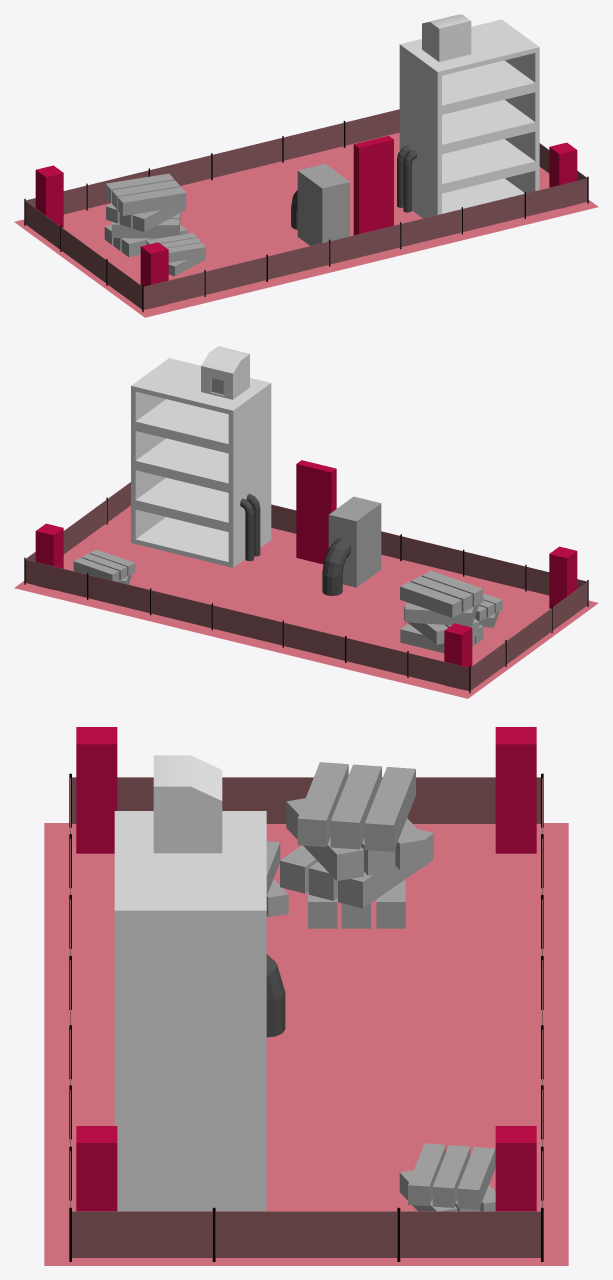
File: 510_pink.fbx
3 renders of one model, top to bottom at view 1: azimuth 30°, elevation 25°; view 2: azimuth 150°, elevation 25°; view 3: azimuth 270°, elevation 25°, orthographic. The views are drawn at different scales.
Visible parts, largest first — view 1: pCube229, ten_ght1, pCube228 (×4), pCube227 (×3), pCube233, pCube234, pCube241, pCube260, pCube261, pCube265, pCube256, pCube262 (+16 smaller); view 2: ten_ght1, pCube229, pCube234, pCube233, pCube228 (×3), pCube241, pCube227 (×2), pCube260, pCube262, pCube258, pCube257, pCube259 (+20 smaller); view 3: ten_ght1, pCube229, pCube268, pCube241, pCube225, pCube226, pCube265, pCube264, pCube271, pCube266, pCube267, pCube243 (+17 smaller).
Boxes of the visible parts, box(x1,y1,x2,y2) form: pCube229: box(399, 19, 539, 218); ten_ght1: box(14, 132, 598, 317); pCube228 (×4): box(143, 178, 587, 309); pCube227 (×3): box(205, 194, 524, 294); pCube233: box(297, 164, 349, 245); pCube234: box(353, 135, 393, 235); pCube241: box(422, 14, 471, 61); pCube260: box(212, 138, 282, 177); pCube261: box(283, 123, 343, 160); pCube265: box(35, 165, 63, 227); pCube256: box(117, 187, 186, 215); pCube262: box(345, 109, 399, 145); ten_ght1: box(14, 505, 598, 698); pCube229: box(131, 358, 271, 567); pCube234: box(296, 460, 336, 564); pCube233: box(328, 496, 381, 587); pCube228 (×3): box(271, 504, 587, 595); pCube241: box(201, 346, 249, 399); pCube227 (×2): box(381, 531, 525, 589); pCube260: box(212, 605, 282, 645); pCube262: box(88, 575, 149, 613); pCube258: box(346, 638, 407, 675); pCube257: box(408, 653, 469, 690); pCube259: box(283, 622, 344, 660); ten_ght1: box(44, 823, 568, 1265); pCube229: box(114, 811, 266, 1211); pCube268: box(215, 1211, 397, 1257); pCube241: box(153, 755, 222, 853); pCube225: box(400, 1211, 540, 1257); pCube226: box(72, 1211, 212, 1257); pCube265: box(495, 727, 536, 853); pCube264: box(76, 727, 117, 853); pCube271: box(407, 777, 540, 823); pCube266: box(495, 1126, 536, 1211); pCube267: box(76, 1126, 117, 1211); pCube243: box(364, 767, 415, 851).
Size of the model in its own units: 10 by 4.01 by 5.
